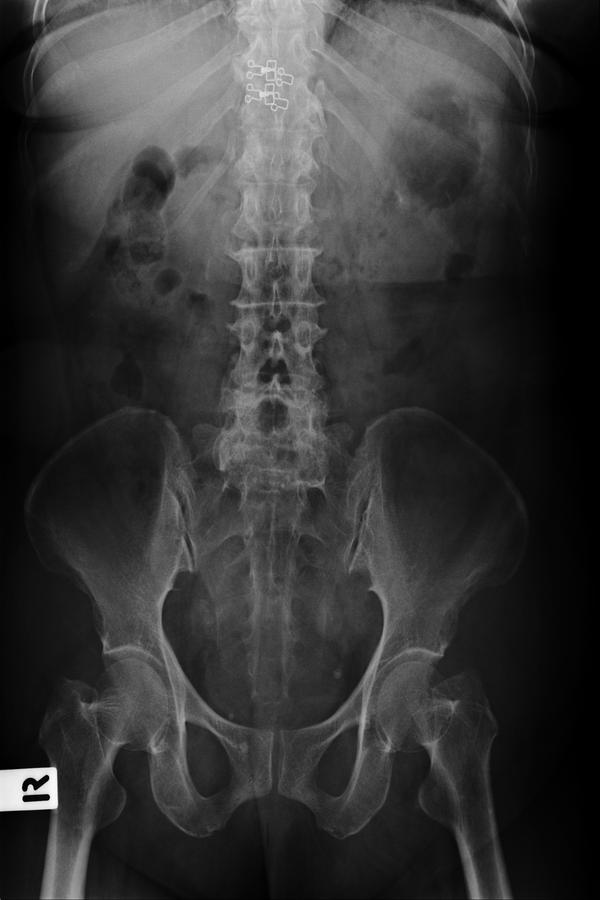not lumbar scoliosis: (221, 164, 342, 504)
